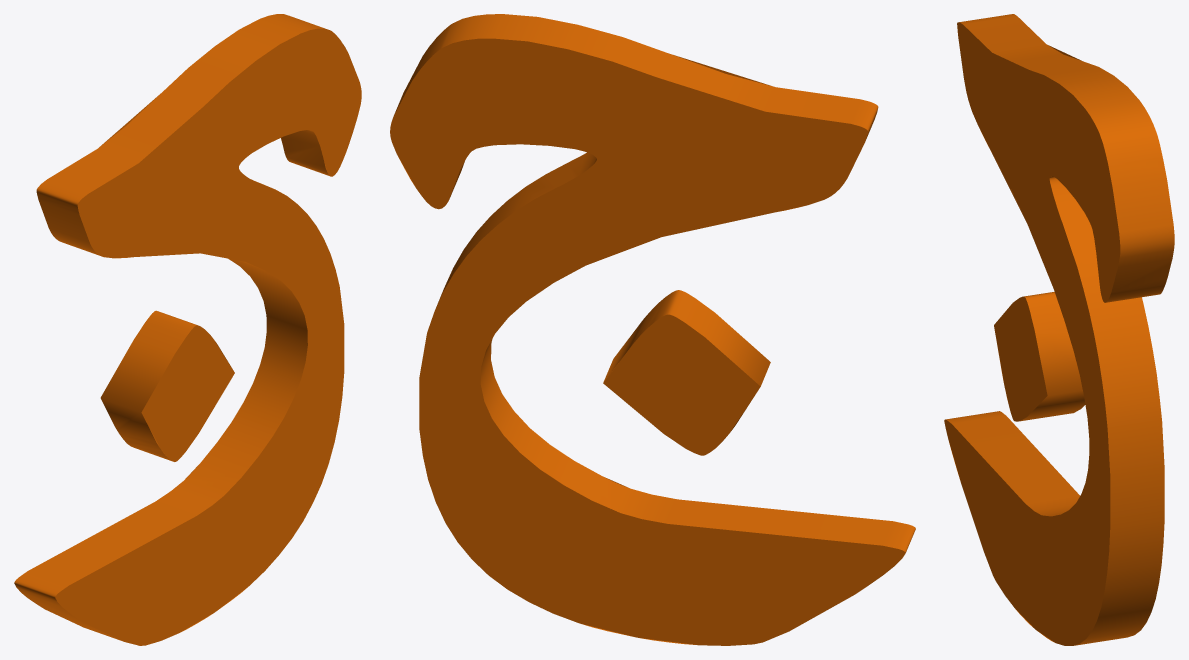
File: jim.fbx
3 renders of one model, left to right at view 1: azimuth 30°, elevation 25°; view 2: azimuth 150°, elevation 25°; view 3: azimuth 270°, elevation 25°, orthographic. The views are drawn at different scales.
Visible parts, largest first — view 1: ja; view 2: ja; view 3: ja.
Boxes of the visible parts, x1,y1,x2,y2 form: ja: (14,14,361,645); ja: (390,14,915,645); ja: (944,14,1174,645).
Size of the model in its own units: 93.71 by 119 by 42.9.
